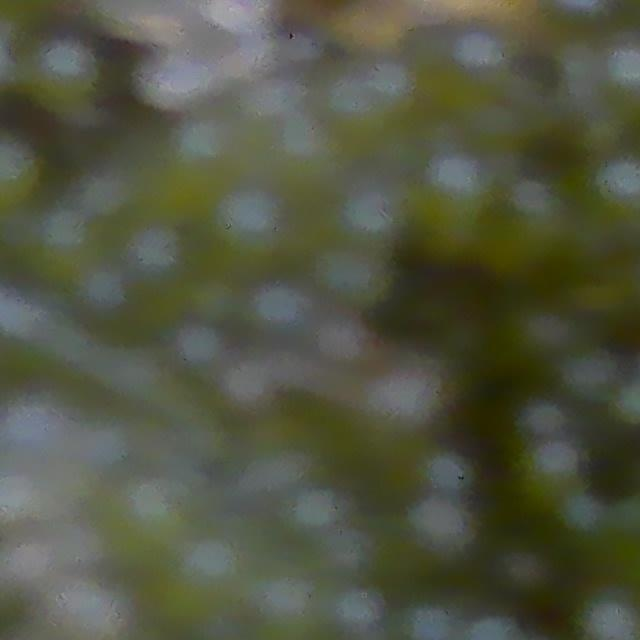SeaGrape: (111, 474, 194, 554), (211, 183, 290, 267), (405, 491, 480, 568), (28, 37, 99, 109), (316, 243, 391, 311), (138, 48, 207, 110), (124, 219, 189, 283), (556, 342, 622, 405), (519, 436, 583, 499), (176, 533, 241, 594), (593, 154, 640, 221), (327, 583, 384, 636), (401, 600, 464, 640)
